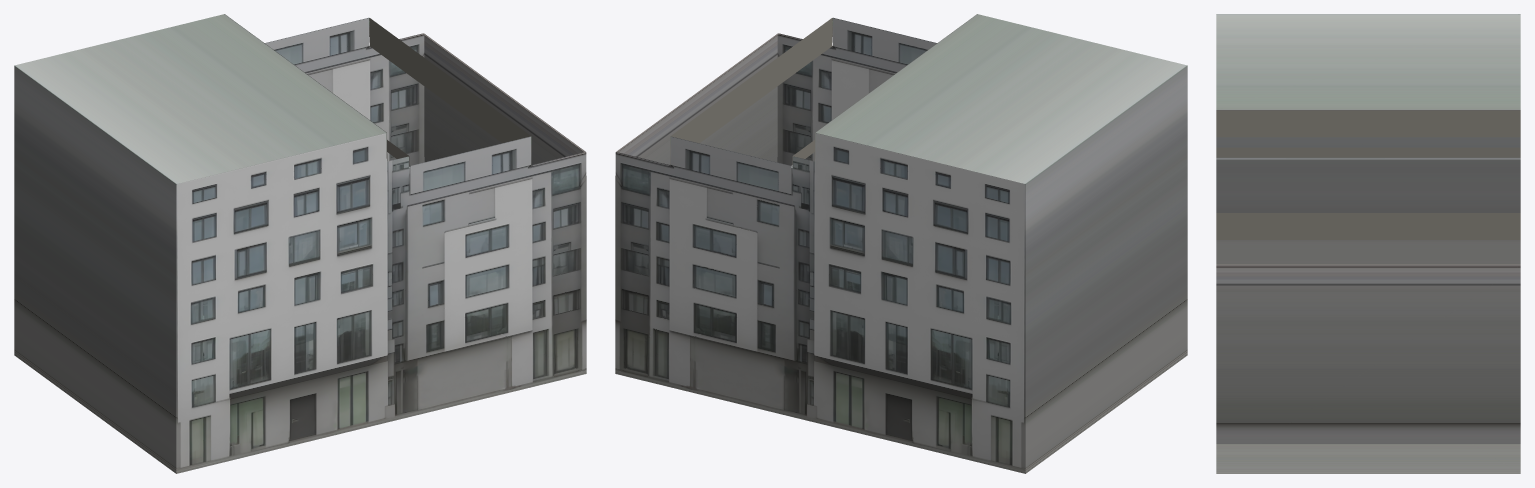
File: Facade3.fbx
3 views of the same model, side by side, from view 1: azimuth 30°, elevation 25°; view 2: azimuth 150°, elevation 25°; view 3: azimuth 270°, elevation 25° (orthographic). The views are drawn at different scales.
Parts seen in each view (by area): view 1: fasady_10; view 2: fasady_10; view 3: fasady_10.
Boxes of the visible parts, x1,y1,x2,y2 form: fasady_10: (14,14,586,473); fasady_10: (615,14,1187,473); fasady_10: (1216,14,1520,473).
Bounding box in the file's own units: 146 × 98.65 × 100.
2 materials, 1 textured.
